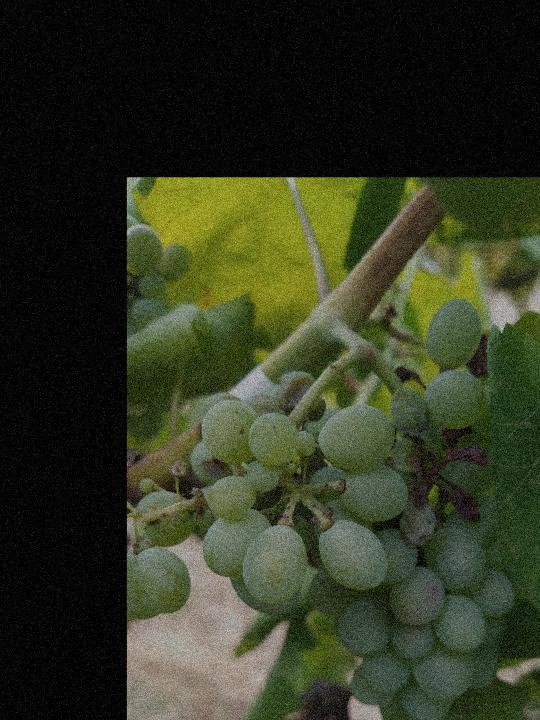grape: (127, 296, 518, 720)
